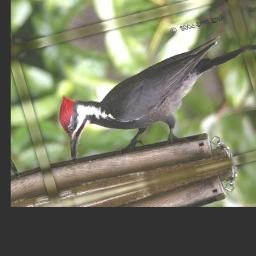Woodpecker: (47, 30, 256, 168)
